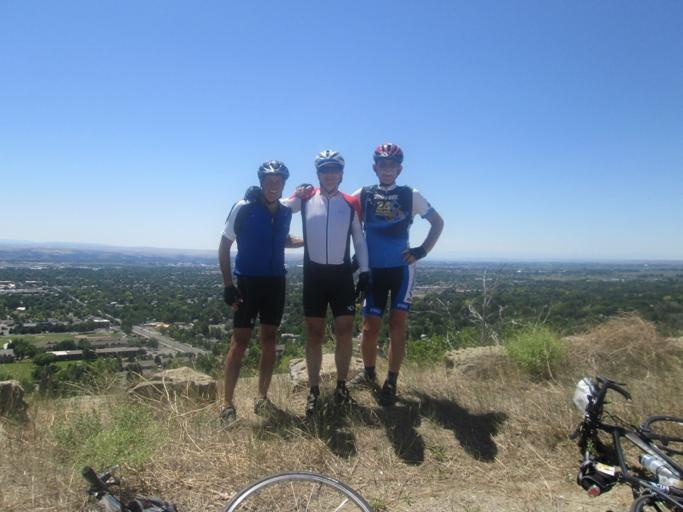non-vehicle: (569, 375, 682, 512), (81, 466, 372, 511)
